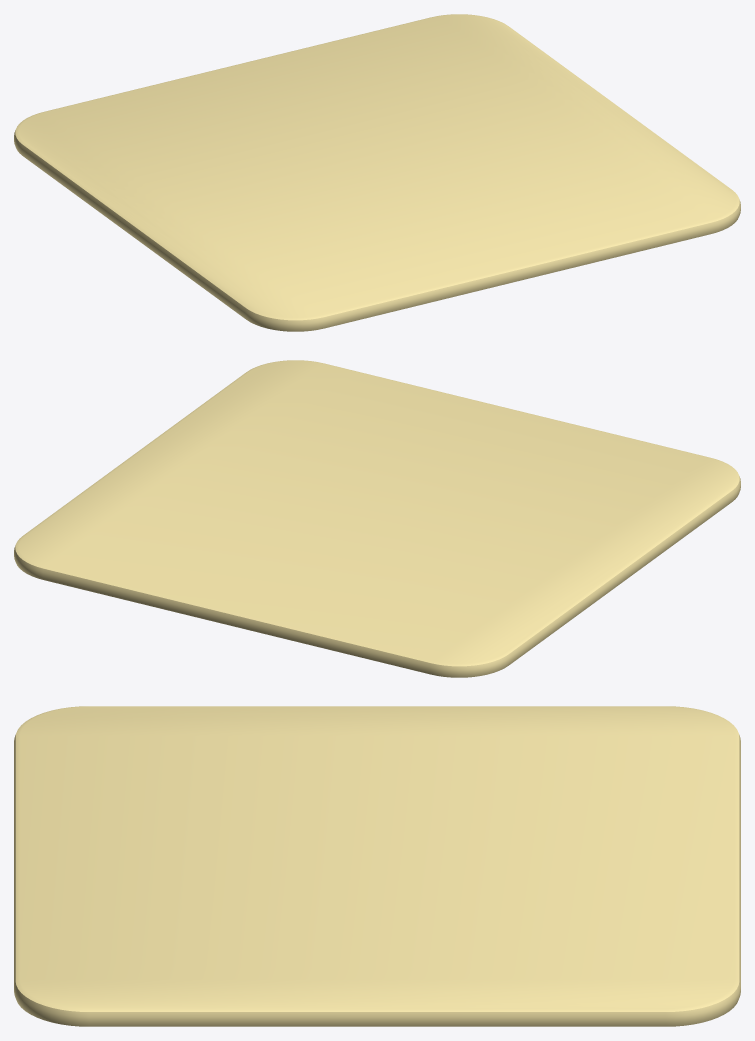
The picture shows the model from 3 angles, top to bottom: view 1: azimuth 30°, elevation 25°; view 2: azimuth 150°, elevation 25°; view 3: azimuth 270°, elevation 25°; orthographic projection. The views are drawn at different scales.
Visible parts, largest first — view 1: SketchUp; view 2: SketchUp; view 3: SketchUp.
Boxes of the visible parts, <box> form: SketchUp: <box>14,14,740,331</box>; SketchUp: <box>14,360,740,677</box>; SketchUp: <box>14,706,740,1026</box>.
Size of the model in its own units: 45.44 by 45.44 by 1.21.
